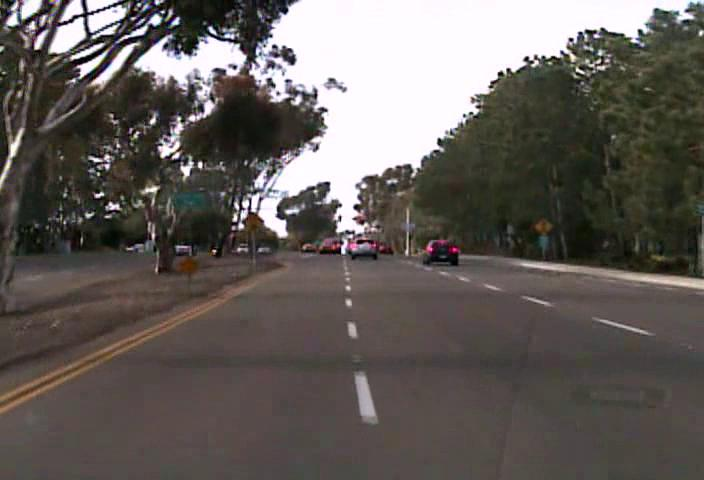signalAhead: (534, 216, 553, 236)
